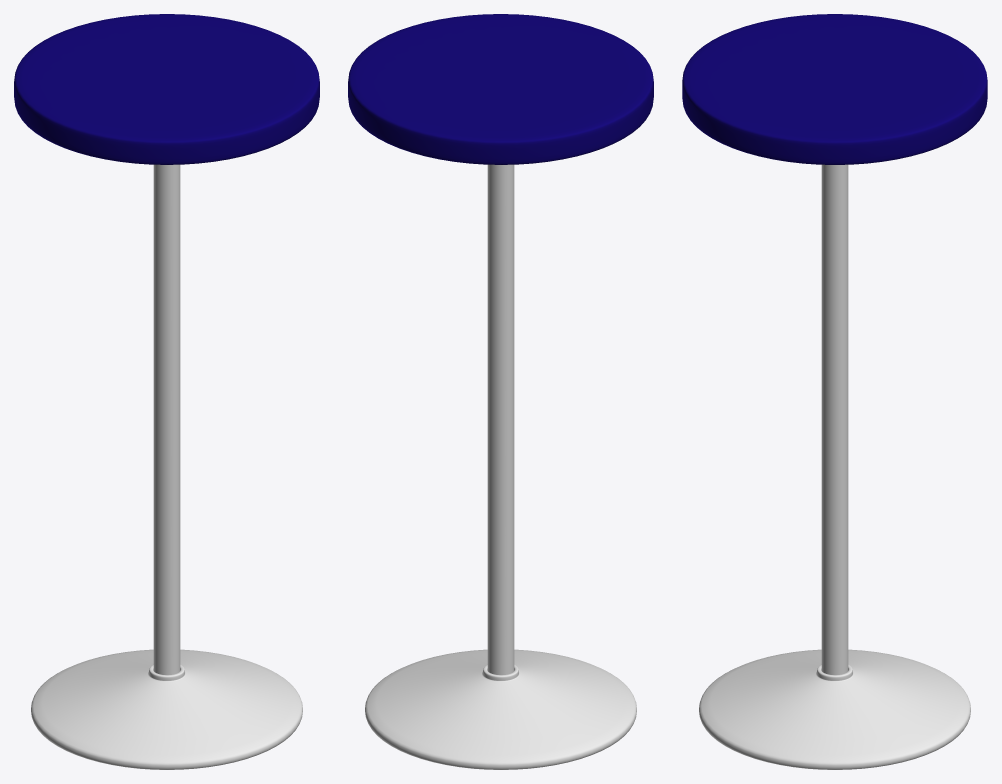
File: teachers_table_v2.fbx
3 renders of one model, left to right at view 1: azimuth 30°, elevation 25°; view 2: azimuth 150°, elevation 25°; view 3: azimuth 270°, elevation 25°, orthographic.
Parts seen in each view (by area): view 1: TableTop; view 2: TableTop; view 3: TableTop.
Part boxes in pixels (x1=…): TableTop: x1=14, y1=14, x2=319, y2=769; TableTop: x1=348, y1=14, x2=653, y2=769; TableTop: x1=682, y1=14, x2=987, y2=769.
Size of the model in its own units: 59.89 by 138 by 59.82.
